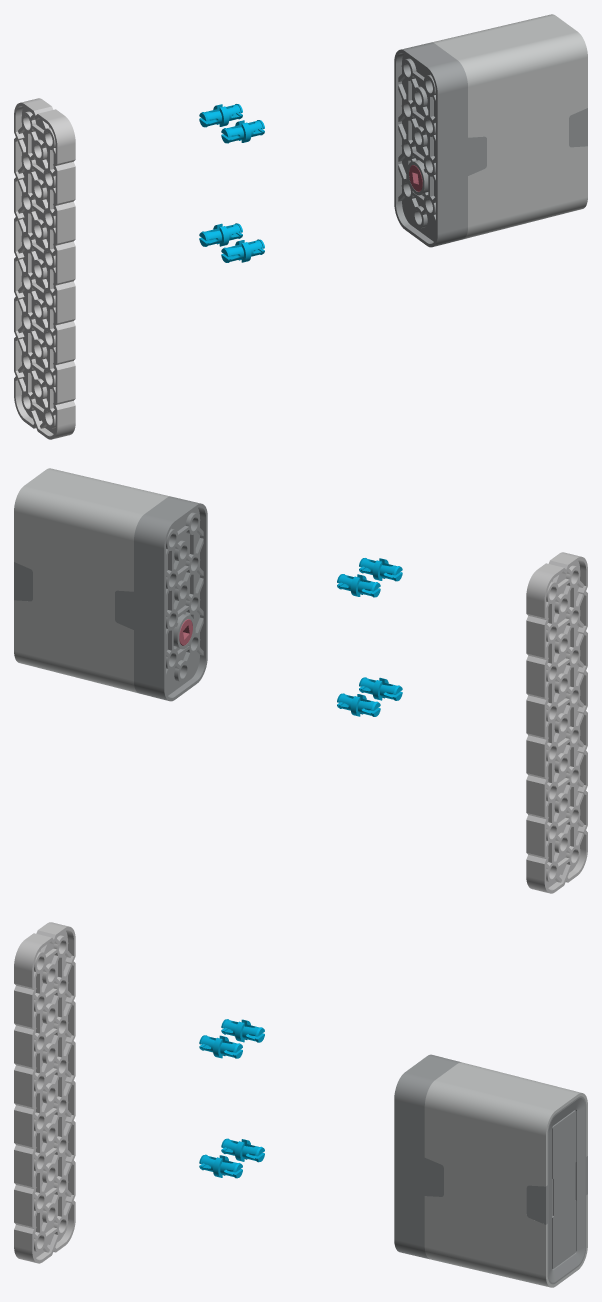
File: speedbot0.glb
3 renders of one model, top to bottom at view 1: azimuth 30°, elevation 25°; view 2: azimuth 150°, elevation 25°; view 3: azimuth 330°, elevation 25°, orthographic.
Parts seen in each view (by area): view 1: occurrence of 228-2560-002-1, occurrence of 228-2500-023, occurrence of 228-2560-001-1, 228-2500-060 Rev5, 228-2500-060 Rev5.002, 228-2500-060 Rev5.003, 228-2500-060 Rev5.001, occurrence of 228-2560-003-1; view 2: occurrence of 228-2560-002-1, occurrence of 228-2500-023, occurrence of 228-2560-001-1, 228-2500-060 Rev5.002, 228-2500-060 Rev5, 228-2500-060 Rev5.001, 228-2500-060 Rev5.003, occurrence of 228-2560-003-1; view 3: occurrence of 228-2560-002-1, occurrence of 228-2500-023, occurrence of 228-2560-003-1, occurrence of 228-2560-001-1, 228-2500-060 Rev5.003, 228-2500-060 Rev5.001, 228-2500-060 Rev5.002, 228-2500-060 Rev5.
Boxes of the visible parts, bbox=[...] form: occurrence of 228-2560-002-1: bbox=[431, 14, 587, 238]; occurrence of 228-2500-023: bbox=[14, 98, 75, 439]; occurrence of 228-2560-001-1: bbox=[394, 42, 486, 247]; 228-2500-060 Rev5: bbox=[199, 104, 242, 127]; 228-2500-060 Rev5.002: bbox=[221, 120, 264, 143]; 228-2500-060 Rev5.003: bbox=[221, 239, 264, 262]; 228-2500-060 Rev5.001: bbox=[199, 223, 242, 246]; occurrence of 228-2560-003-1: bbox=[569, 108, 587, 147]; occurrence of 228-2560-002-1: bbox=[14, 468, 170, 692]; occurrence of 228-2500-023: bbox=[526, 552, 587, 893]; occurrence of 228-2560-001-1: bbox=[115, 496, 207, 701]; 228-2500-060 Rev5.002: bbox=[359, 558, 402, 581]; 228-2500-060 Rev5: bbox=[337, 574, 380, 597]; 228-2500-060 Rev5.001: bbox=[337, 693, 380, 716]; 228-2500-060 Rev5.003: bbox=[359, 677, 402, 700]; occurrence of 228-2560-003-1: bbox=[14, 562, 32, 601]; occurrence of 228-2560-002-1: bbox=[424, 1062, 587, 1287]; occurrence of 228-2500-023: bbox=[14, 922, 75, 1263]; occurrence of 228-2560-003-1: bbox=[526, 1096, 587, 1284]; occurrence of 228-2560-001-1: bbox=[394, 1054, 460, 1259]; 228-2500-060 Rev5.003: bbox=[199, 1154, 242, 1178]; 228-2500-060 Rev5.001: bbox=[221, 1138, 264, 1162]; 228-2500-060 Rev5.002: bbox=[199, 1035, 242, 1058]; 228-2500-060 Rev5: bbox=[221, 1019, 264, 1042].
Bounding box in the file's own units: 0.1772 × 0.1013 × 0.0252.
